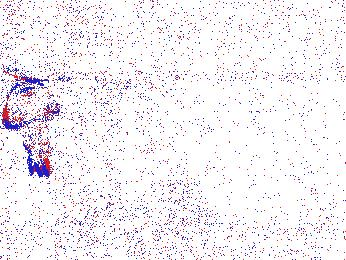flame jellyfish: (3, 81, 61, 175), (75, 186, 135, 247)
